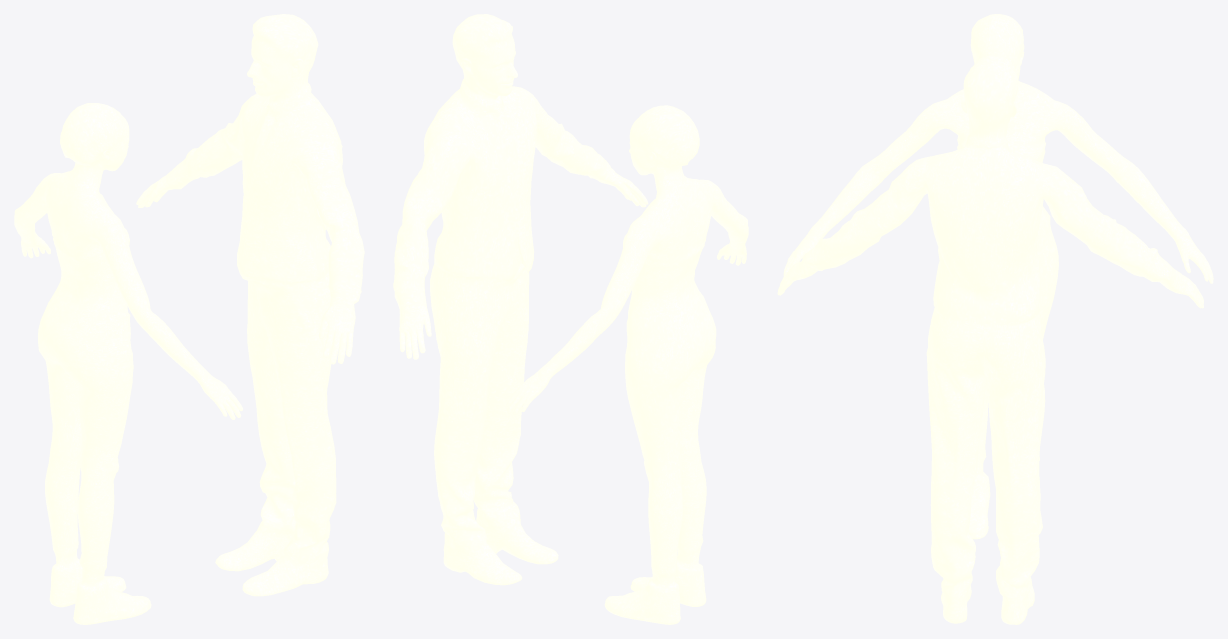
Rendered from guys.gltf.
3 renders of one model, left to right at view 1: azimuth 30°, elevation 25°; view 2: azimuth 150°, elevation 25°; view 3: azimuth 270°, elevation 25°, orthographic.
Parts seen in each view (by area): view 1: rp_eric_rigged_001_geo, rp_alison_rigged_001_geo.002; view 2: rp_eric_rigged_001_geo, rp_alison_rigged_001_geo.002; view 3: rp_eric_rigged_001_geo, rp_alison_rigged_001_geo.002.
Part boxes in pixels (x1,y1,x2,y2): rp_eric_rigged_001_geo: [136, 14, 364, 596]; rp_alison_rigged_001_geo.002: [14, 103, 242, 624]; rp_eric_rigged_001_geo: [393, 14, 648, 585]; rp_alison_rigged_001_geo.002: [506, 105, 748, 624]; rp_eric_rigged_001_geo: [777, 55, 1203, 624]; rp_alison_rigged_001_geo.002: [783, 14, 1213, 539].
Bounding box in the file's own units: 97.29 × 186 × 134.
Materials: 2 (2 with a texture image).
